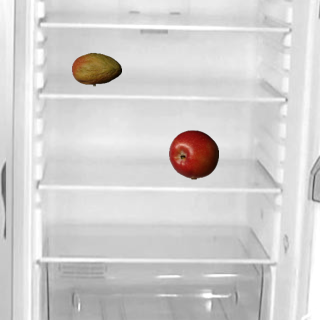Apple Braeburn: (168, 129, 218, 179)
Papaya: (71, 44, 121, 94)
